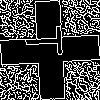T: (25, 25, 72, 58)
